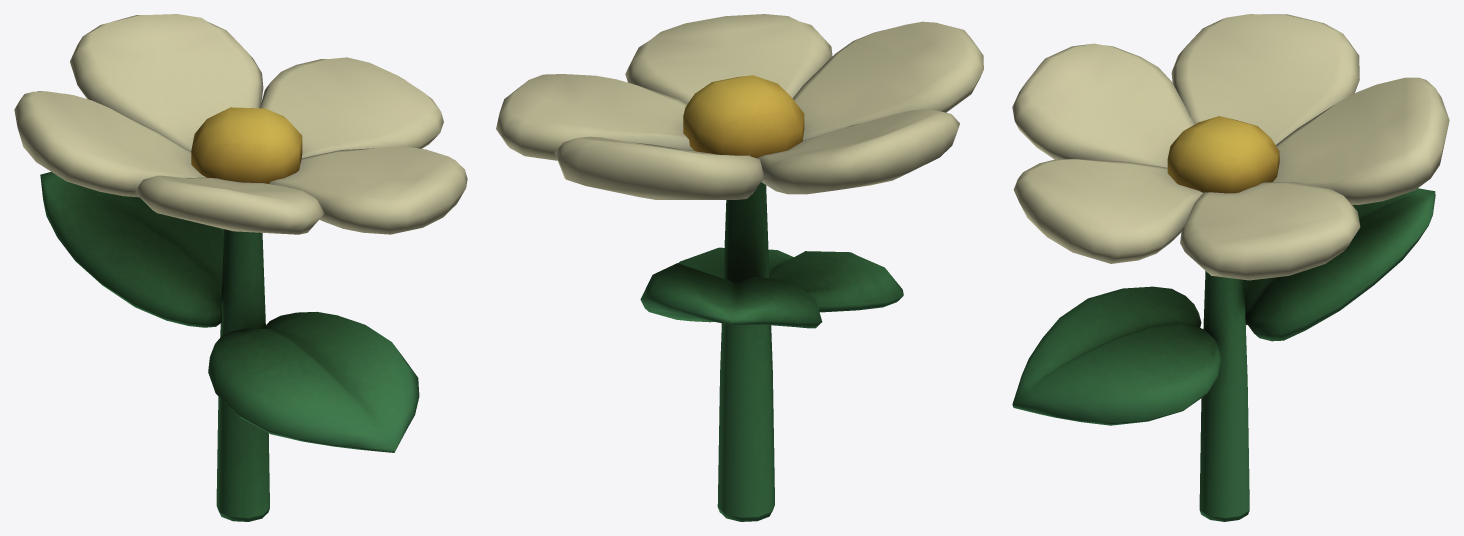
The model's file is SC_Flower01.fbx.
3 views of the same model, side by side, from view 1: azimuth 30°, elevation 25°; view 2: azimuth 150°, elevation 25°; view 3: azimuth 270°, elevation 25° (orthographic). The views are drawn at different scales.
Parts seen in each view (by area): view 1: SC_Flower01; view 2: SC_Flower01; view 3: SC_Flower01.
Boxes of the visible parts, bbox=[...] form: SC_Flower01: bbox=[14, 14, 467, 521]; SC_Flower01: bbox=[496, 14, 983, 521]; SC_Flower01: bbox=[1012, 14, 1449, 521].
Bounding box in the file's own units: 102 × 104 × 99.17.
